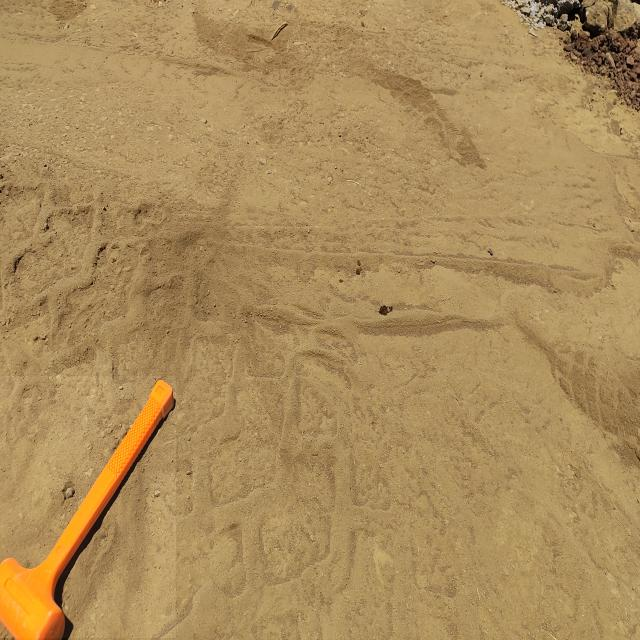Orange_hammer: (0, 376, 176, 638)
